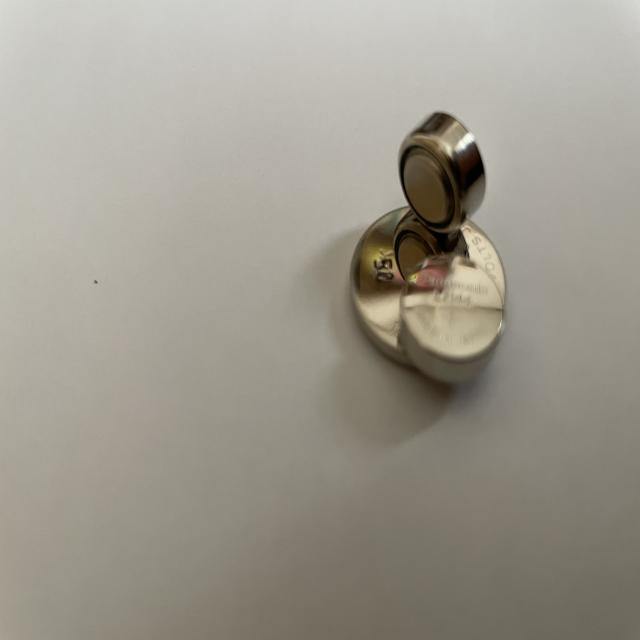COIN: (347, 206, 517, 373), (397, 262, 507, 381), (396, 104, 488, 232)
